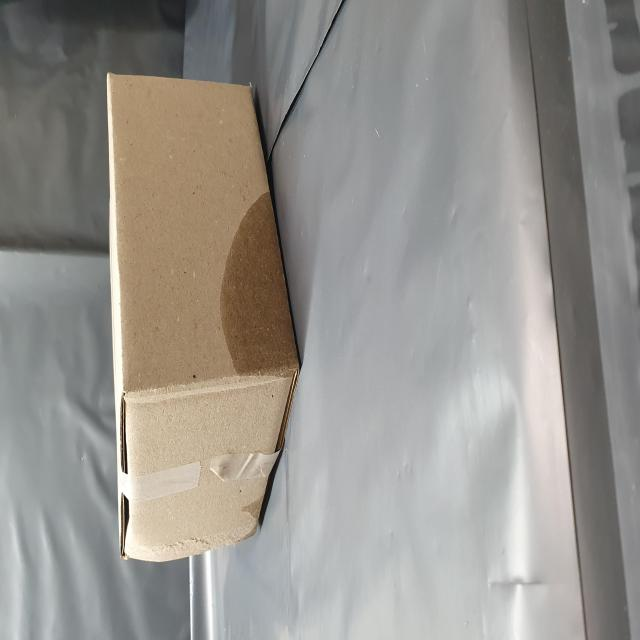wet: (139, 385, 257, 529)
